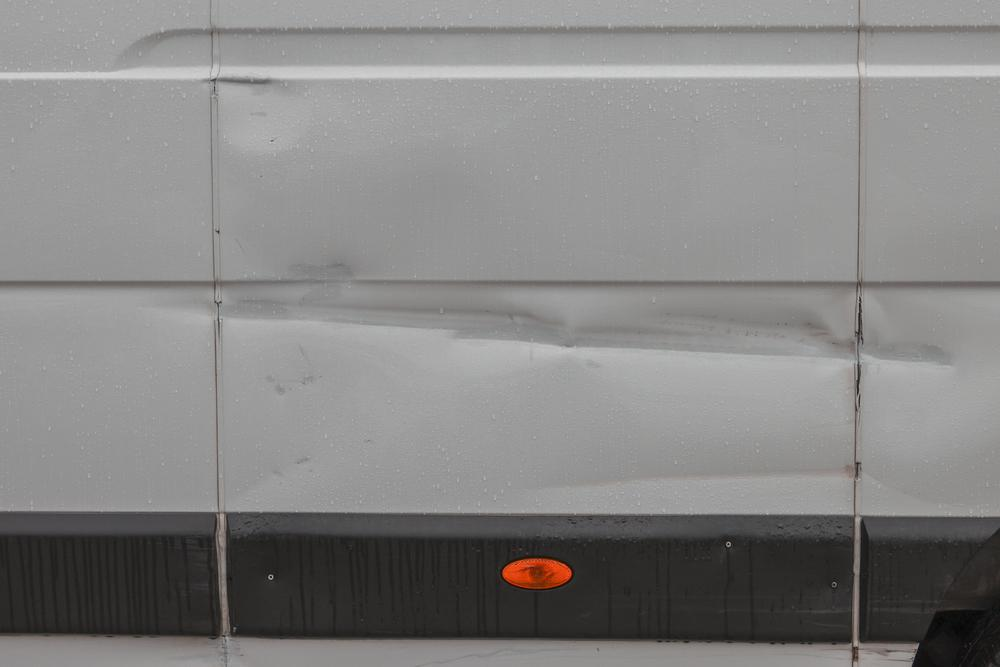dent: (220, 260, 852, 364), (858, 289, 958, 376), (219, 79, 306, 152)
